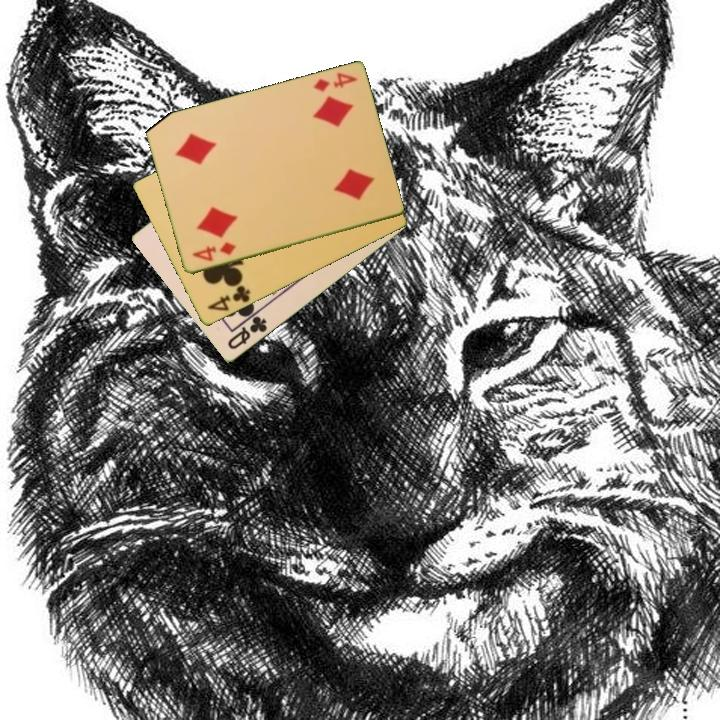4c: (204, 282, 253, 315)
4d: (188, 238, 239, 265), (309, 69, 360, 95)
Qc: (224, 313, 270, 353)
